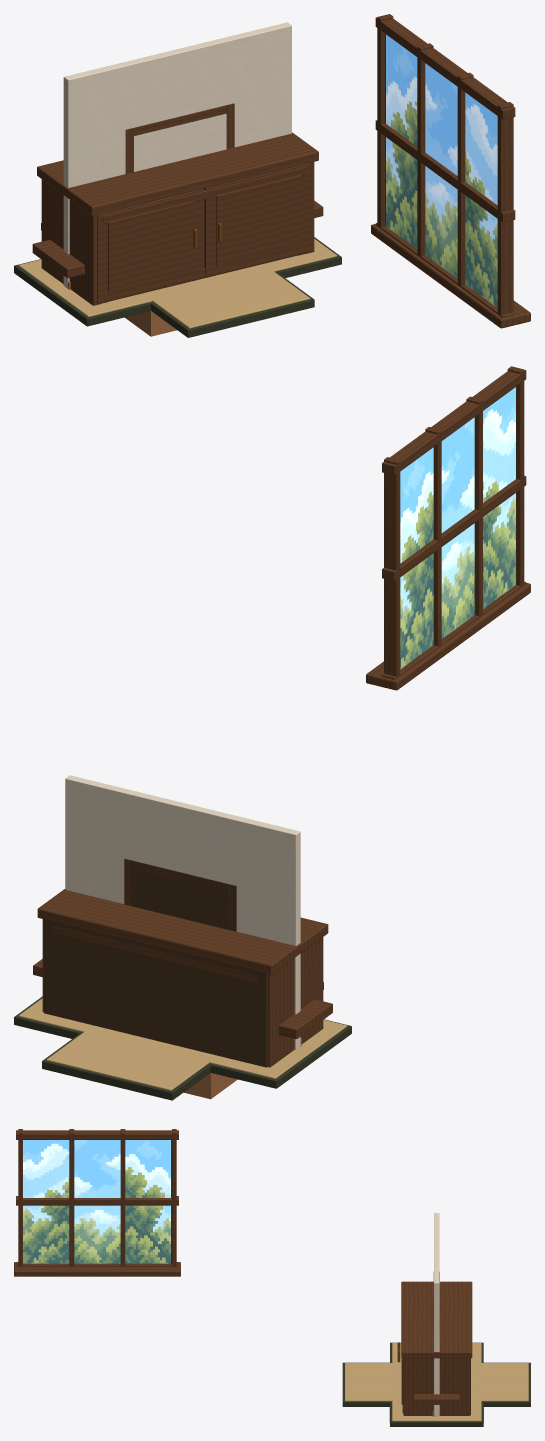
Rendered from acabamentos.glb.
3 views of the same model, one above another, from view 1: azimuth 30°, elevation 25°; view 2: azimuth 150°, elevation 25°; view 3: azimuth 270°, elevation 25° (orthographic). The views are drawn at different scales.
Parts seen in each view (by area): view 1: Janela - acabamento, Aparador - acabamento, Acabamentos - acabamento, MatLong - acabamento, MatWide - acabamento, Estante - acabamento, Quadro - acabamento, Prateleira - acabamento, FloorBase - acabamento; view 2: Janela - acabamento, Aparador - acabamento, Acabamentos - acabamento, MatLong - acabamento, Quadro - acabamento, MatWide - acabamento, Estante - acabamento, Prateleira - acabamento, MatSquare - acabamento; view 3: Janela - acabamento, Aparador - acabamento, MatLong - acabamento, MatWide - acabamento, Acabamentos - acabamento, Prateleira - acabamento.
Boxes of the visible parts, x1,y1,x2,y2 form: Janela - acabamento: [371, 14, 530, 328]; Aparador - acabamento: [37, 132, 318, 305]; Acabamentos - acabamento: [63, 22, 291, 289]; MatLong - acabamento: [41, 223, 314, 337]; MatWide - acabamento: [14, 237, 341, 326]; Estante - acabamento: [103, 167, 305, 301]; Quadro - acabamento: [125, 103, 234, 173]; Prateleira - acabamento: [32, 200, 323, 278]; FloorBase - acabamento: [125, 311, 176, 336]; Janela - acabamento: [366, 366, 530, 690]; Aparador - acabamento: [37, 889, 328, 1067]; Acabamentos - acabamento: [65, 775, 301, 1049]; MatLong - acabamento: [42, 982, 323, 1100]; Quadro - acabamento: [124, 858, 236, 931]; MatWide - acabamento: [14, 996, 351, 1088]; Estante - acabamento: [52, 925, 258, 982]; Prateleira - acabamento: [33, 959, 332, 1038]; MatSquare - acabamento: [81, 1025, 216, 1064]; Janela - acabamento: [14, 1129, 180, 1276]; Aparador - acabamento: [397, 1281, 472, 1415]; MatLong - acabamento: [342, 1362, 530, 1406]; MatWide - acabamento: [390, 1342, 483, 1426]; Acabamentos - acabamento: [432, 1213, 439, 1416]; Prateleira - acabamento: [414, 1394, 459, 1404].
Bounding box in the file's own units: 1.6 × 2.55 × 4.37.
Materials: 22 (20 with a texture image).
